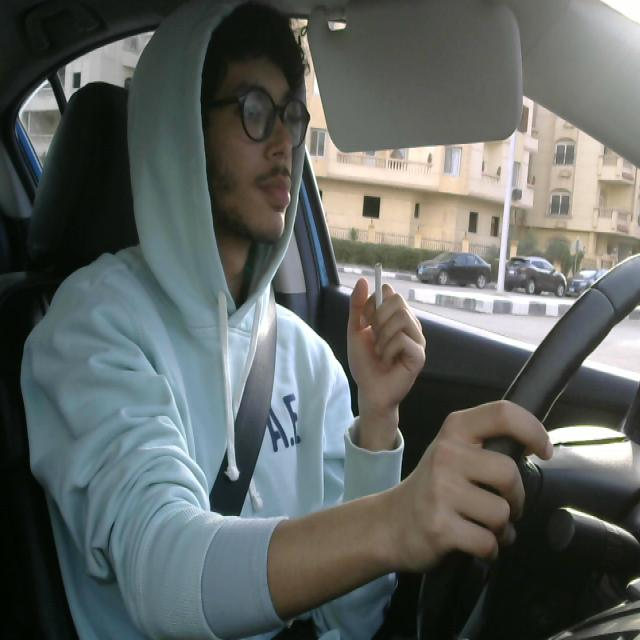smoking: (372, 260, 392, 338)
